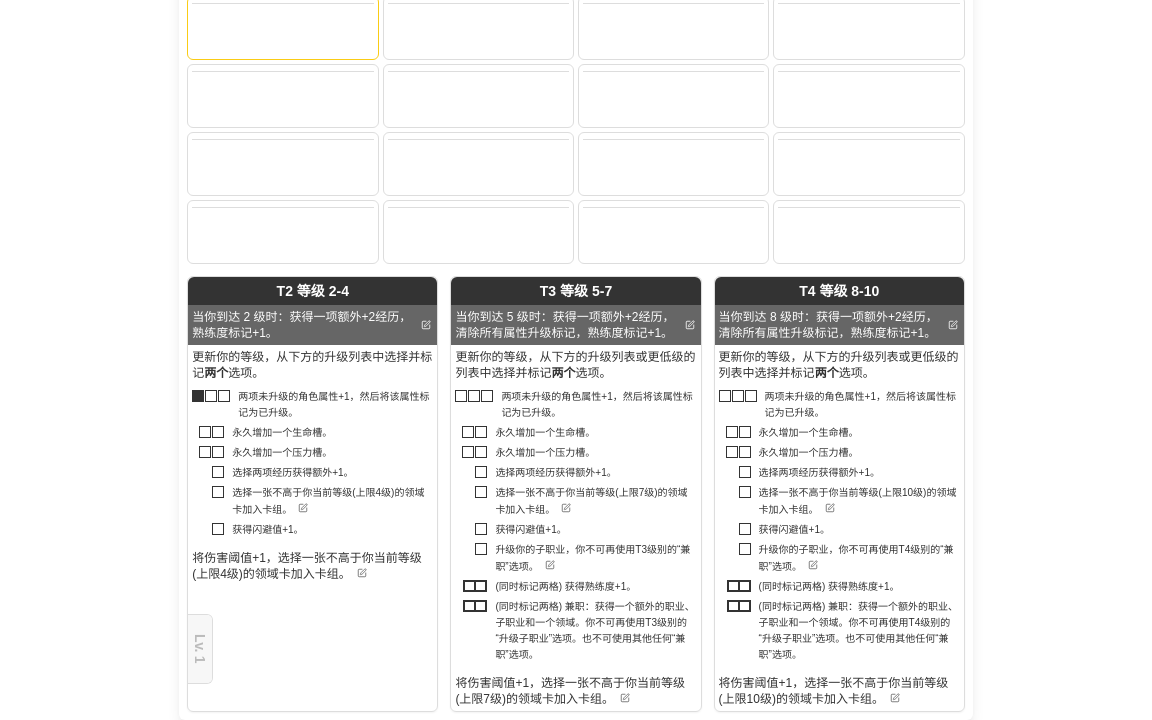
it: 升级取消流程（page-two 集成） › 参数化升级取消后重新点击会打开选择器且不复用旧 params
(page scrolled)
What coordinates should you click on to do the following:
click the element with test id "checkbox-tier1-0-0"
I would click on:
 (198, 396)
Its box is [192,390,204,402].
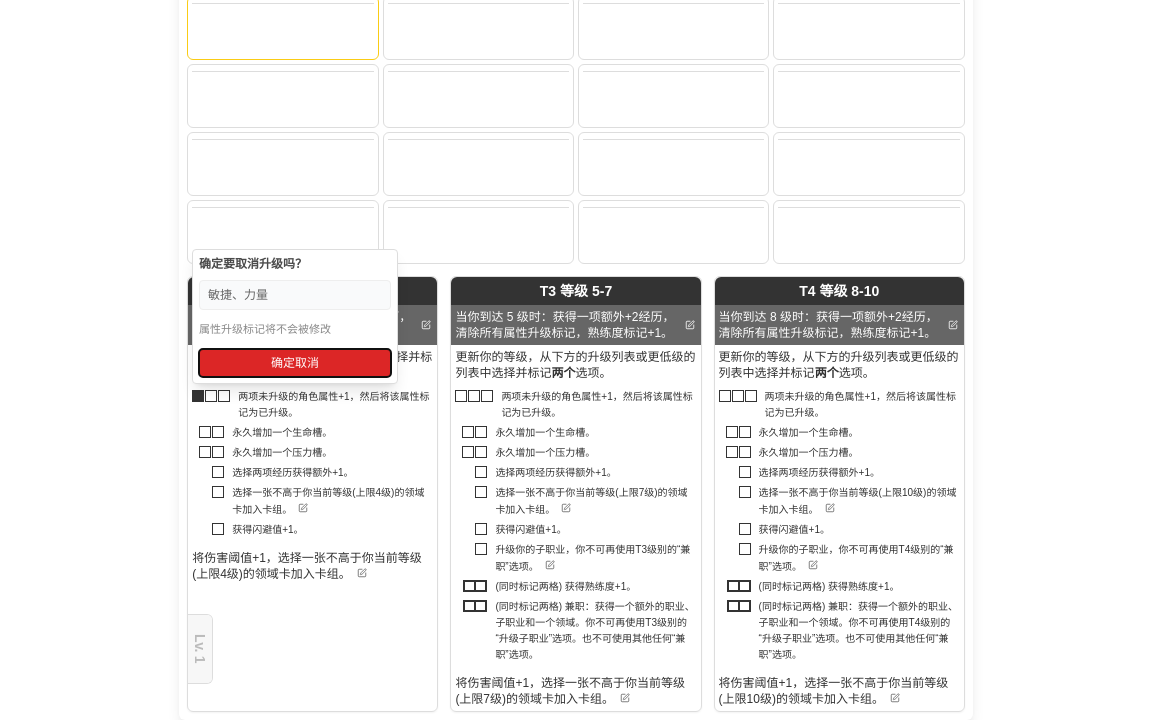
What coordinates should you click on to do the following:
click the button "确定取消"
I would click on:
 (295, 363)
Its box is [199,349,391,377].
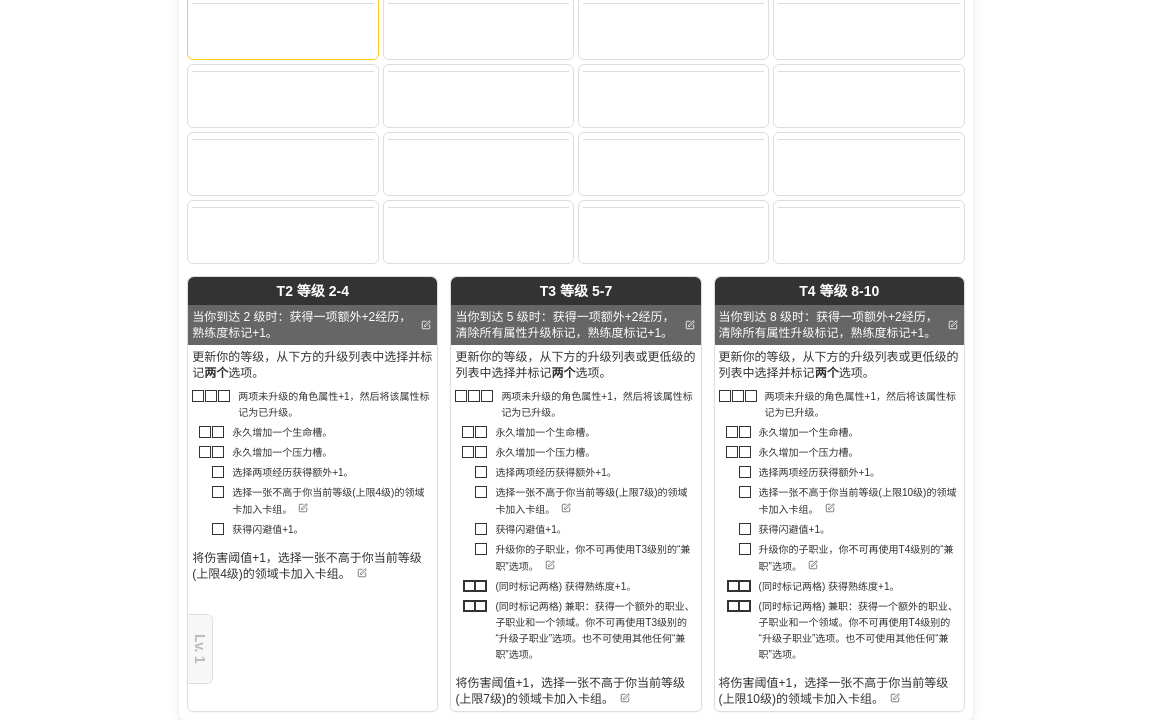
What coordinates should you click on to do the following:
click the element with test id "checkbox-tier1-0-0"
I would click on:
 (198, 396)
Its box is [192,390,204,402].
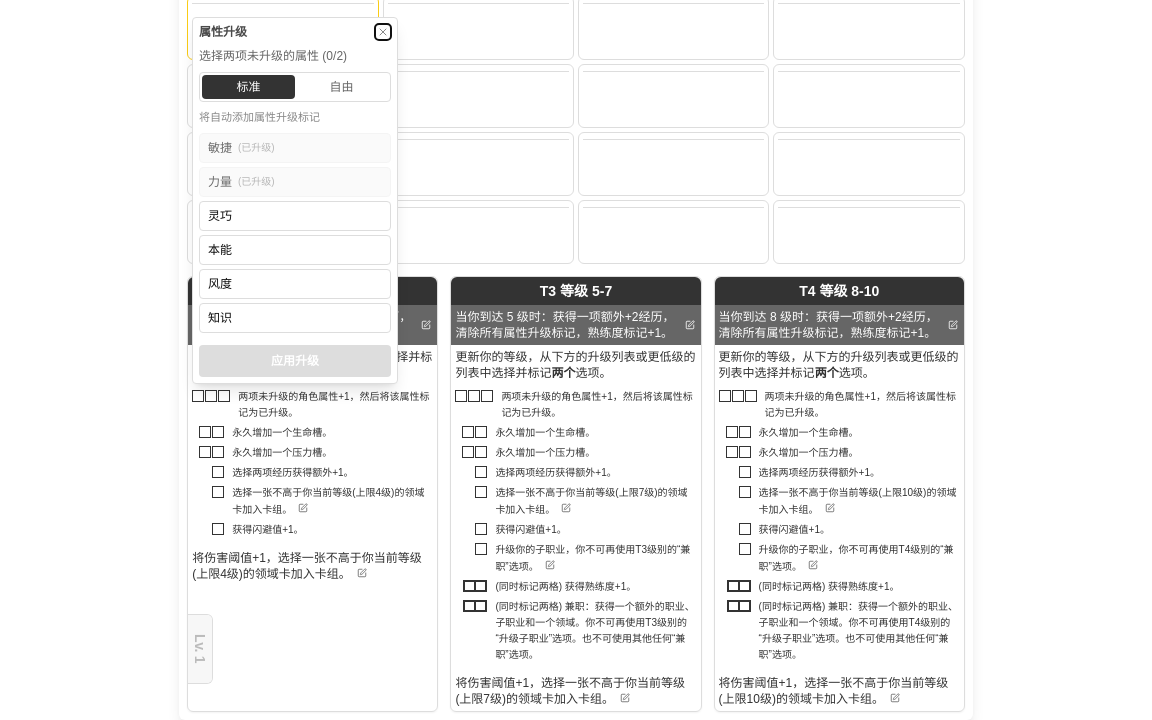
Check: the text "属性升级" is shown, box [199,24,247,40]
Check: the text "选择两项未升级的属性 (0/2)" is shown, box [199,49,347,63]
